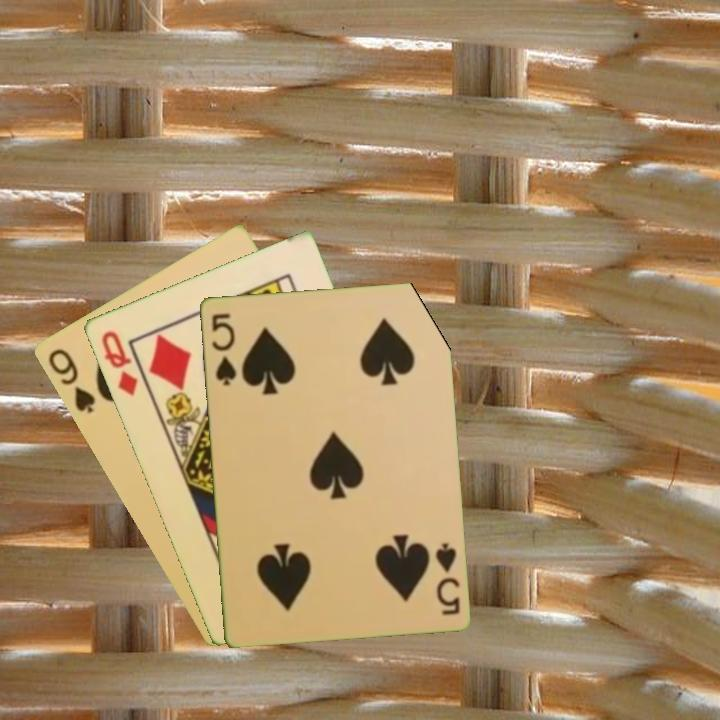5s: (207, 309, 239, 388), (432, 539, 462, 618)
9s: (44, 344, 98, 416)
Qd: (97, 326, 140, 399)
